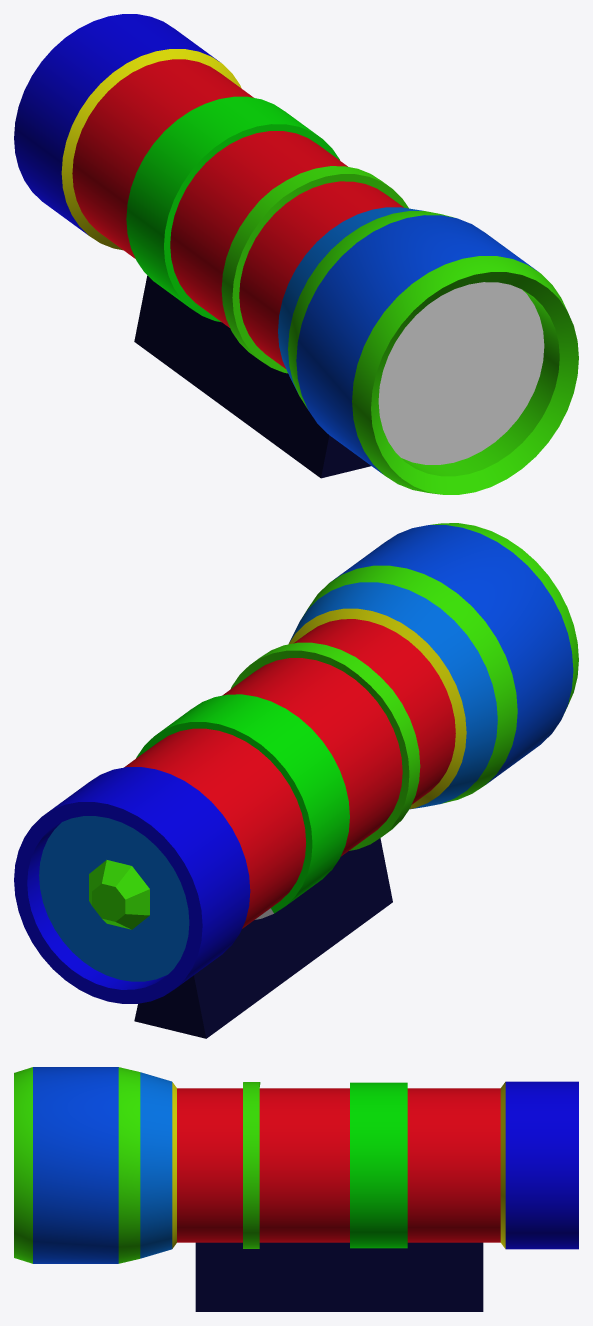
Rendered from handFlashlight.fbx.
3 views of the same model, one above another, from view 1: azimuth 30°, elevation 25°; view 2: azimuth 150°, elevation 25°; view 3: azimuth 270°, elevation 25° (orthographic). The views are drawn at different scales.
Parts seen in each view (by area): view 1: Cylinder; view 2: Cylinder; view 3: Cylinder.
Boxes of the visible parts, x1,y1,x2,y2 form: Cylinder: [14, 14, 578, 494]; Cylinder: [14, 523, 578, 1038]; Cylinder: [14, 1067, 578, 1311].
Bounding box in the file's own units: 2.18 × 2.72 × 6.27.
